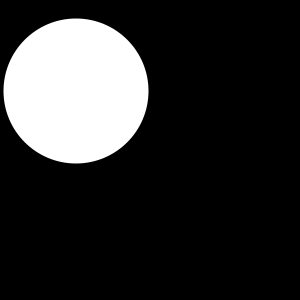rectangle: (4, 19, 148, 164)
